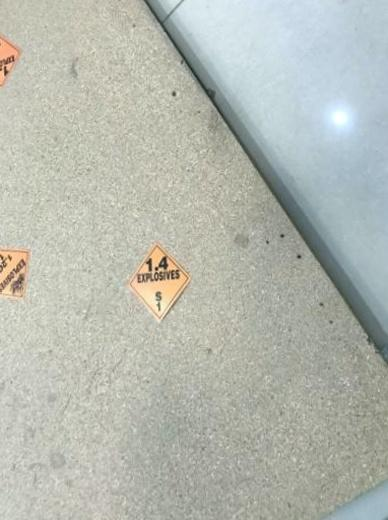explosive: (127, 242, 191, 322), (1, 247, 31, 299), (1, 32, 22, 88)
